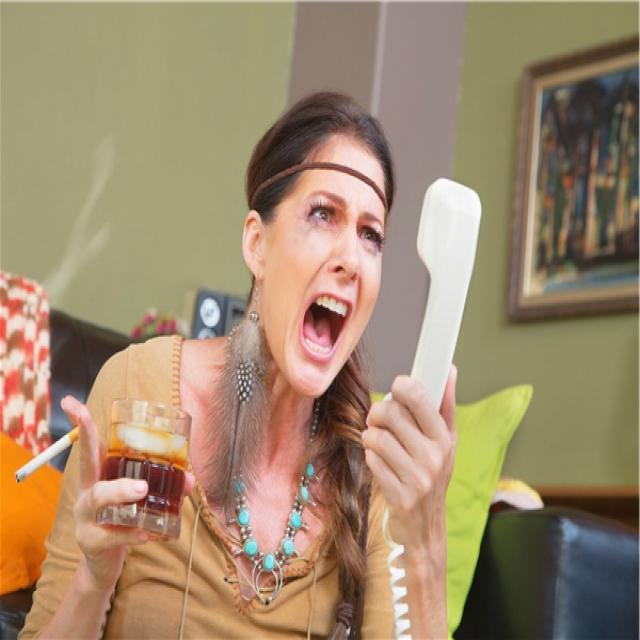smoking: (16, 413, 89, 485)
